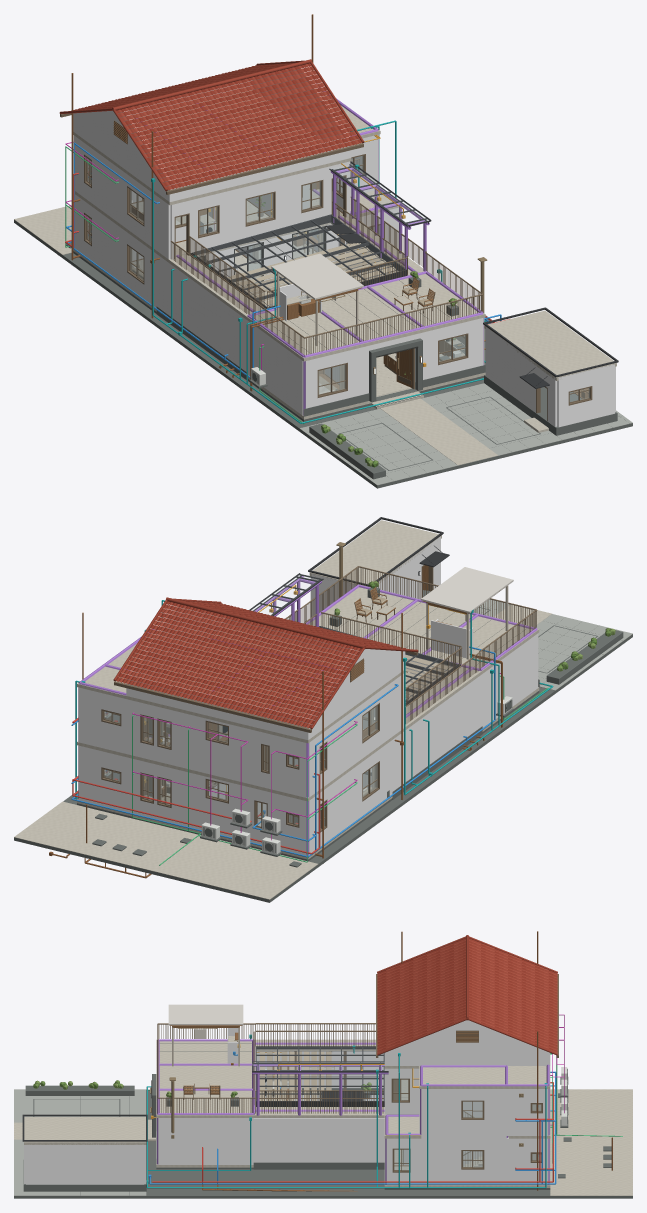
File: courtyard-house.glb
The picture shows the model from 3 angles, top to bottom: view 1: azimuth 30°, elevation 25°; view 2: azimuth 150°, elevation 25°; view 3: azimuth 270°, elevation 25°; orthographic projection. The views are drawn at different scales.
Parts seen in each view (by area): view 1: Rear glazed tiles, Open front forecourt, Accessible flat roof terrace, Courtyard canopy glazing, Site plinth, Courtyard boundary wall, Storage flat roof slab, Forecourt central approach, Second-floor top plate / attic floor, Wall.027, Wall.008, Pavilion sloping roof (+25 smaller); view 2: Rear glazed tiles, Rear service yard, Accessible flat roof terrace, Courtyard boundary wall, Site plinth, Storage flat roof slab, Open front forecourt, Second-floor top plate / attic floor, Wall.027, Pavilion sloping roof, Attic knee wall.001, Wall.063 (+32 smaller); view 3: Rear glazed tiles, Site plinth, Rear service yard, Accessible flat roof terrace, Courtyard boundary wall.001, Wall.005, Wall.028, Open front forecourt, Courtyard canopy glazing, Storage flat roof slab, Attic side knee wall.001, Gable.001 (+26 smaller).
Part boxes in pixels (<box>): Rear glazed tiles: <box>68,62,361,189</box>; Open front forecourt: <box>300,383,632,485</box>; Accessible flat roof terrace: <box>245,274,485,361</box>; Courtyard canopy glazing: <box>208,215,404,306</box>; Site plinth: <box>14,220,632,488</box>; Courtyard boundary wall: <box>157,254,246,371</box>; Storage flat roof slab: <box>484,310,616,380</box>; Forecourt central approach: <box>380,398,497,465</box>; Second-floor top plate / attic floor: <box>73,90,351,205</box>; Wall.027: <box>246,320,303,415</box>; Wall.008: <box>485,327,535,412</box>; Pavilion sloping roof: <box>271,253,363,299</box>; Rear glazed tiles: <box>115,600,408,728</box>; Rear service yard: <box>14,801,318,899</box>; Accessible flat roof terrace: <box>308,587,539,674</box>; Courtyard boundary wall: <box>392,674,482,791</box>; Site plinth: <box>14,634,632,902</box>; Storage flat roof slab: <box>309,520,441,587</box>; Open front forecourt: <box>473,599,632,690</box>; Second-floor top plate / attic floor: <box>126,628,403,743</box>; Wall.027: <box>482,633,538,727</box>; Pavilion sloping roof: <box>421,567,513,613</box>; Attic knee wall.001: <box>126,676,310,739</box>; Wall.063: <box>327,762,362,841</box>; Rear glazed tiles: <box>377,938,557,1053</box>; Site plinth: <box>14,1089,632,1198</box>; Rear service yard: <box>550,1089,632,1195</box>; Accessible flat roof terrace: <box>156,1039,255,1117</box>; Courtyard boundary wall.001: <box>253,1118,384,1162</box>; Wall.005: <box>26,1143,144,1184</box>; Wall.028: <box>158,1118,253,1164</box>; Open front forecourt: <box>14,1089,146,1195</box>; Courtyard canopy glazing: <box>256,1047,383,1100</box>; Storage flat roof slab: <box>24,1117,146,1144</box>; Attic side knee wall.001: <box>388,1049,546,1065</box>; Gable.001: <box>394,1020,540,1049</box>.
Bounding box in the file's own units: 15.2 × 11.7 × 37.4.
Materials: 64 (16 with a texture image).
